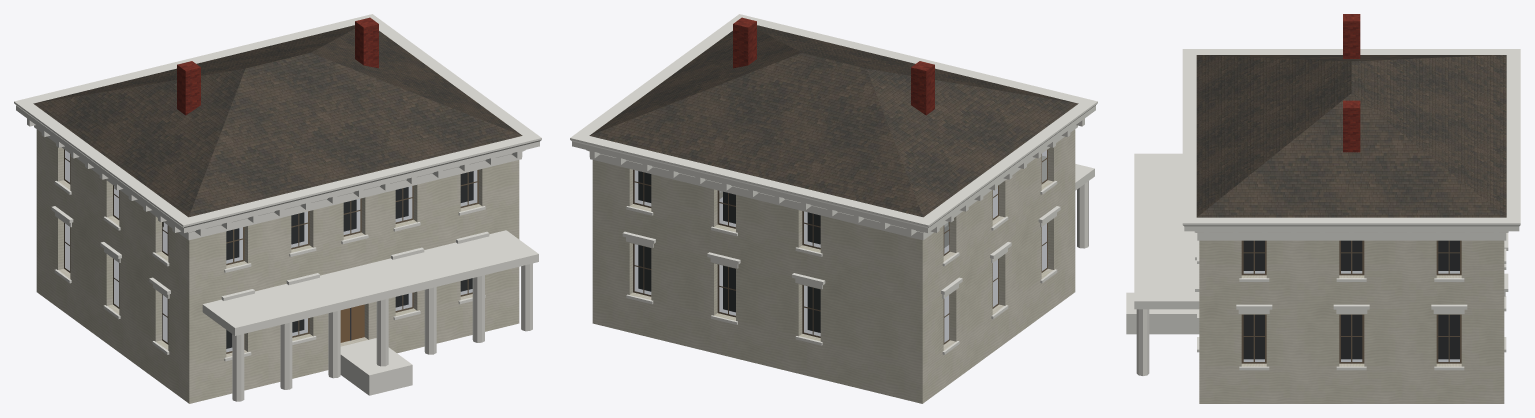
The model's file is ogden_house_1871__house_1860_1871.glb.
3 views of the same model, side by side, from view 1: azimuth 30°, elevation 25°; view 2: azimuth 150°, elevation 25°; view 3: azimuth 270°, elevation 25° (orthographic).
Visible parts, largest first — view 1: ogden_house_1871__house_1860_1871; view 2: ogden_house_1871__house_1860_1871; view 3: ogden_house_1871__house_1860_1871.
Part boxes in pixels (left/top/right/bottom): ogden_house_1871__house_1860_1871: left=14, top=14, right=541, bottom=403; ogden_house_1871__house_1860_1871: left=570, top=14, right=1097, bottom=403; ogden_house_1871__house_1860_1871: left=1126, top=14, right=1520, bottom=403.
Size of the model in its own units: 16.52 by 11.6 by 15.78.
9 materials, 3 textured.
